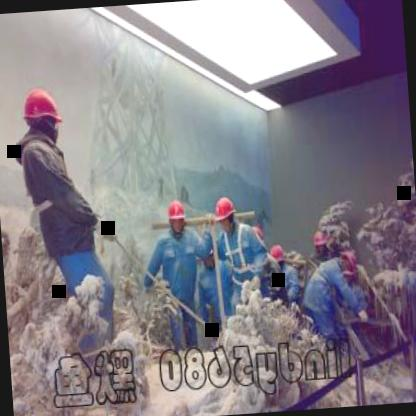helmet: (20, 84, 66, 146), (212, 194, 237, 236), (163, 197, 188, 236), (264, 240, 289, 278), (332, 247, 360, 276), (309, 226, 331, 258)
